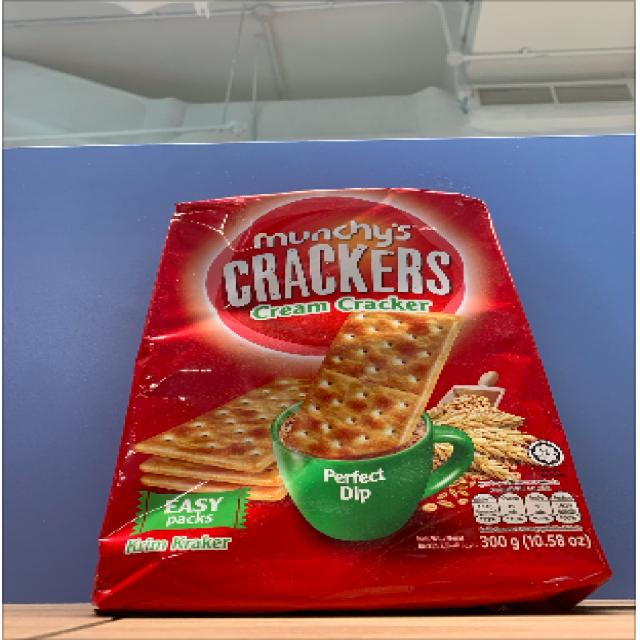object_name: (130, 206, 582, 602)
